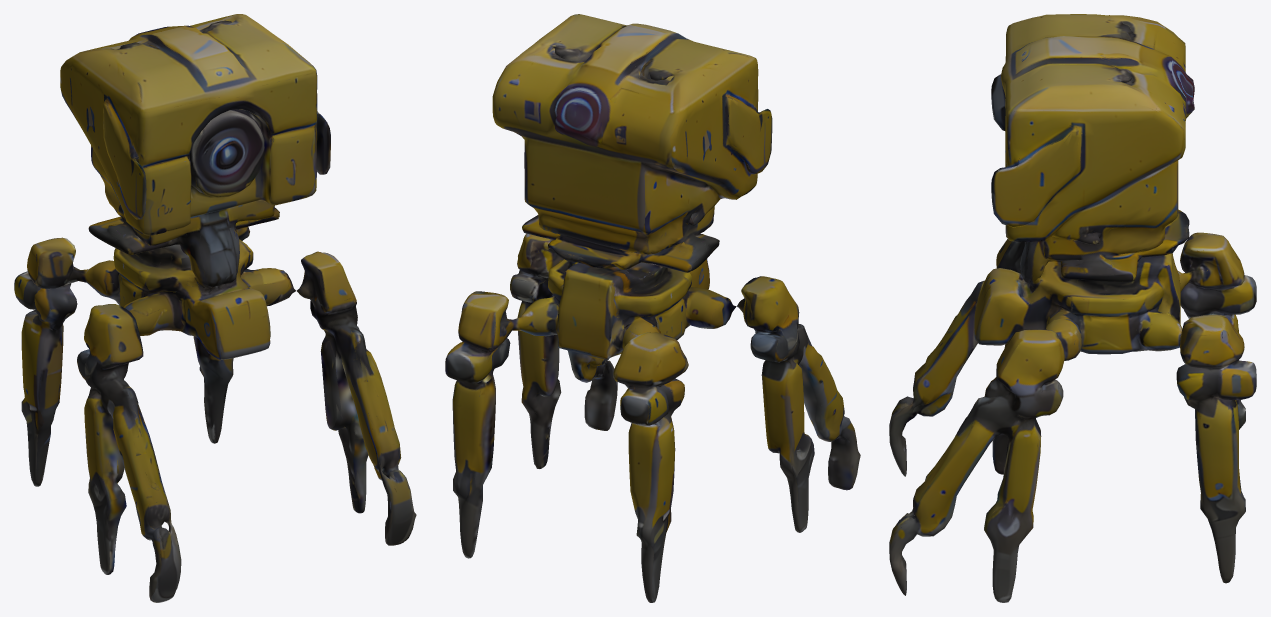
The model's file is S2_shaded.glb.
3 renders of one model, left to right at view 1: azimuth 30°, elevation 25°; view 2: azimuth 150°, elevation 25°; view 3: azimuth 270°, elevation 25°, orthographic. The views are drawn at different scales.
Parts seen in each view (by area): view 1: 2.obj; view 2: 2.obj; view 3: 2.obj.
Part boxes in pixels (left/top/right/bottom): 2.obj: left=14, top=14, right=416, bottom=602; 2.obj: left=445, top=14, right=860, bottom=602; 2.obj: left=889, top=14, right=1256, bottom=602.
Bounding box in the file's own units: 1.12 × 1.89 × 1.28.
1 material, 1 textured.
